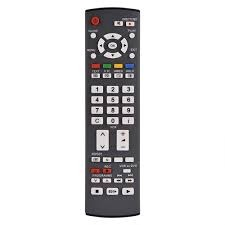remote control: (81, 4, 142, 222)
